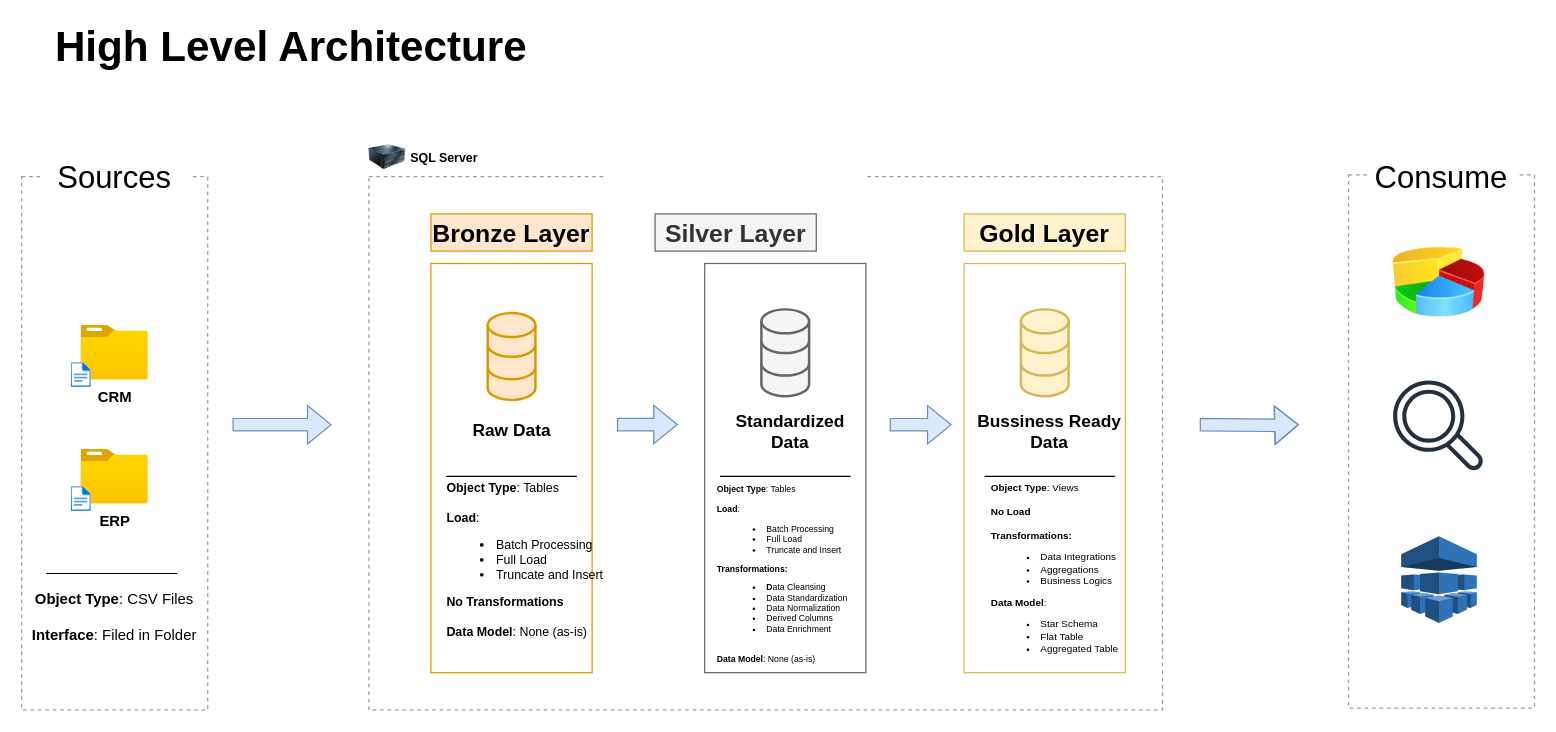
Some shapes in this 1556 by 732 pixel diagram are drawn without their labels. Here are the shapes that lost their labels. From the top down, the centre of each, then its label:
At [735,176]: "Data Warehouse".
At [1438,281]: "BI and Reportning".
At [1438,424]: "Ad-Hoc SQL Queries".
At [1438,579]: "Machine Learning".
